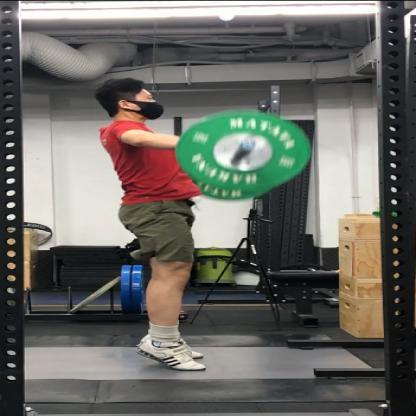barbell: (178, 108, 310, 202)
